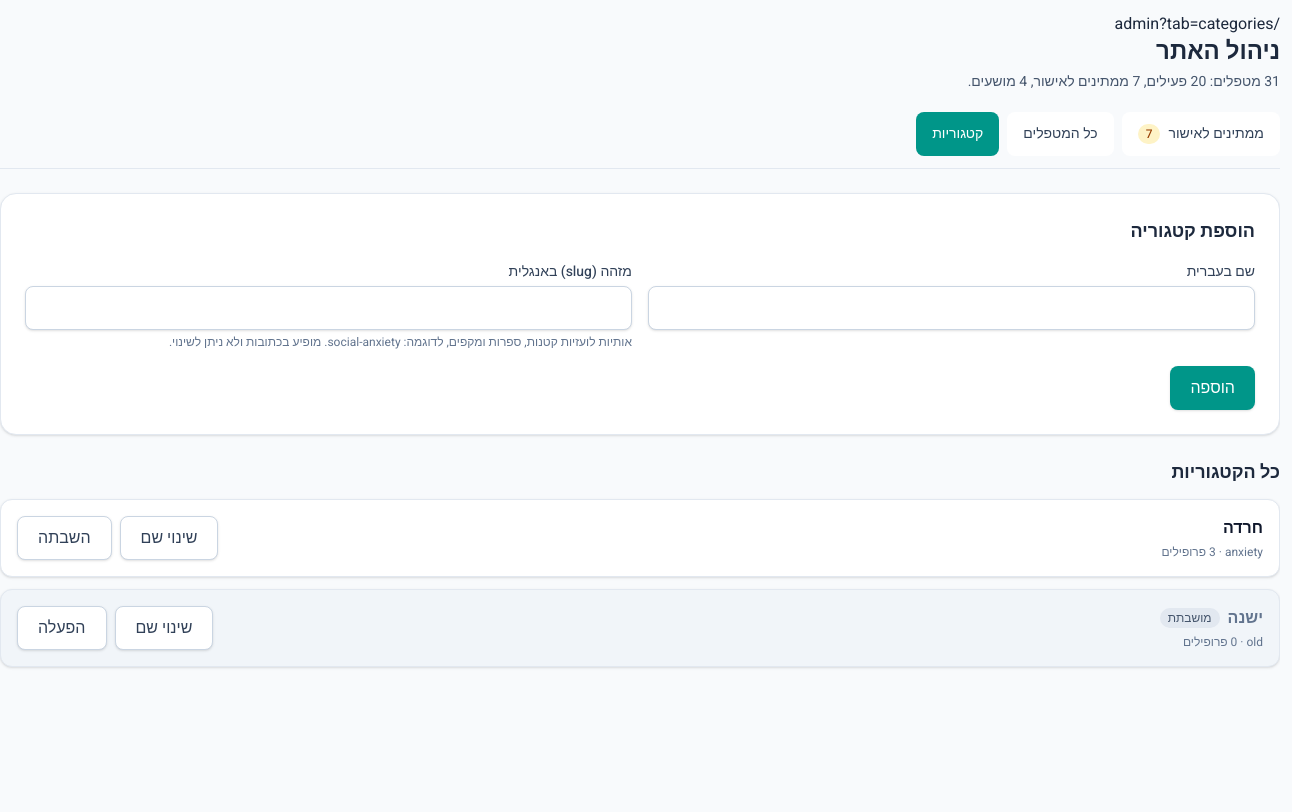
it: AdminPage: categories › renames a category
The width and height of the screenshot is (1292, 812).
Expected: the heading "ניהול האתר" is shown, [1156,34,1280,69]
Expected: the text "חרדה" is shown, [1223,516,1263,540]
Click the button "שינוי שם" in the row of "חרדה" at (169, 538), box [120,516,218,560]
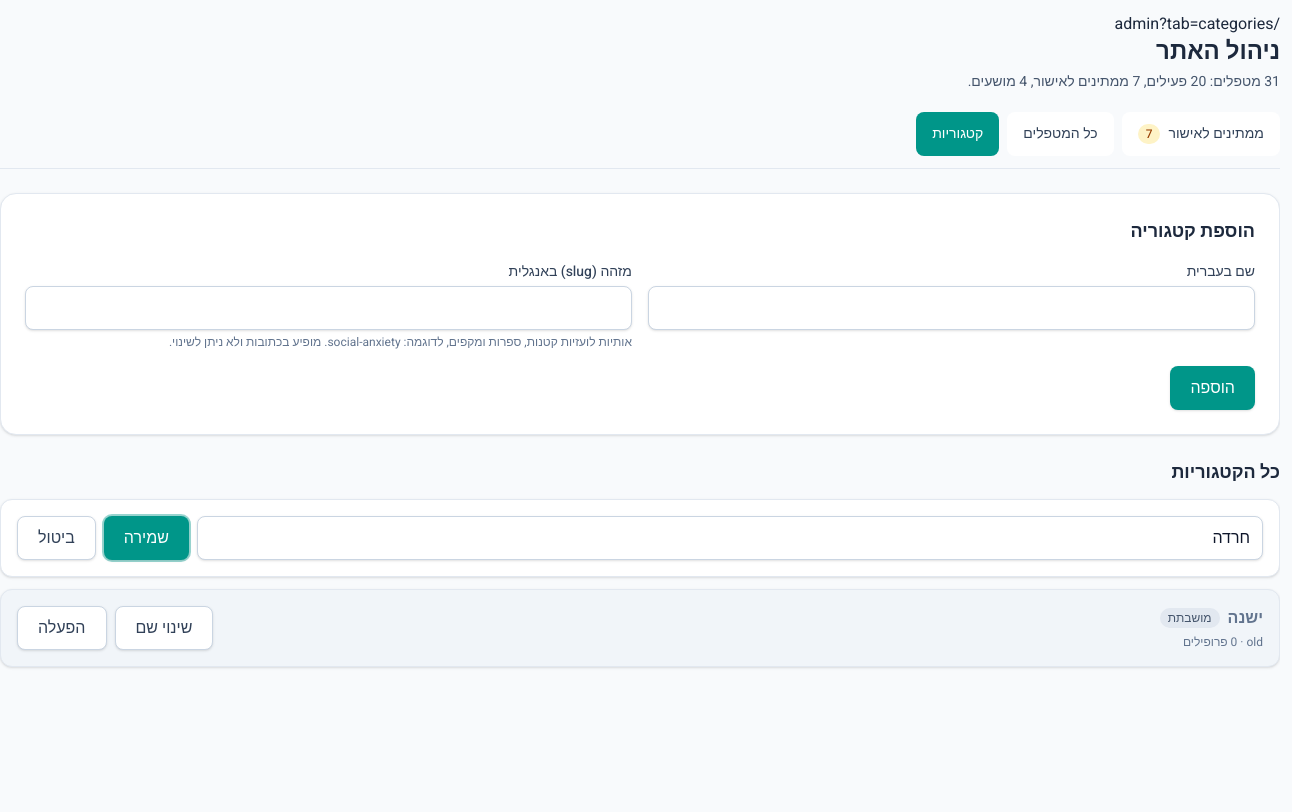
Replace the text in the field named "שם חדש עבור חרדה" with "חרדה ומתח" at (730, 538), box [197,516,1263,560]
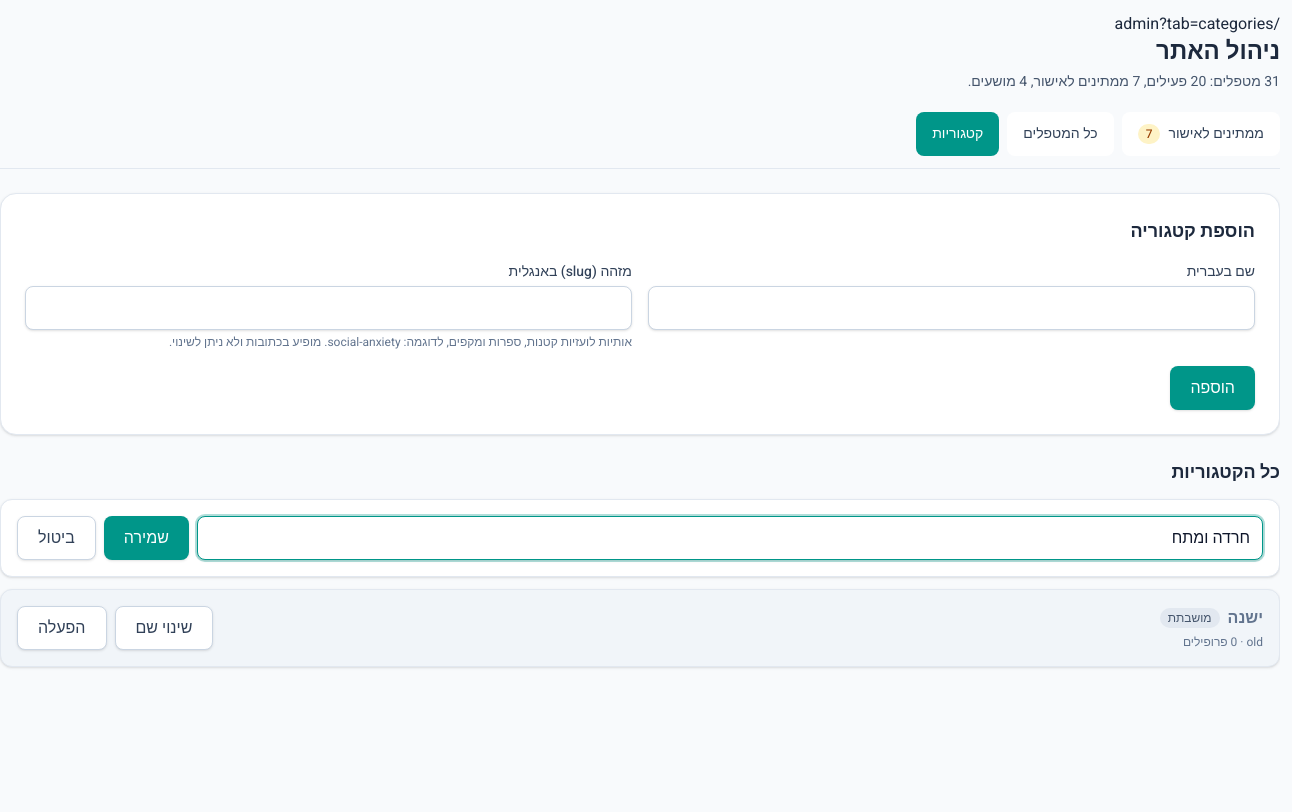
Click the button "שמירה" at (146, 538), box [104,516,189,560]
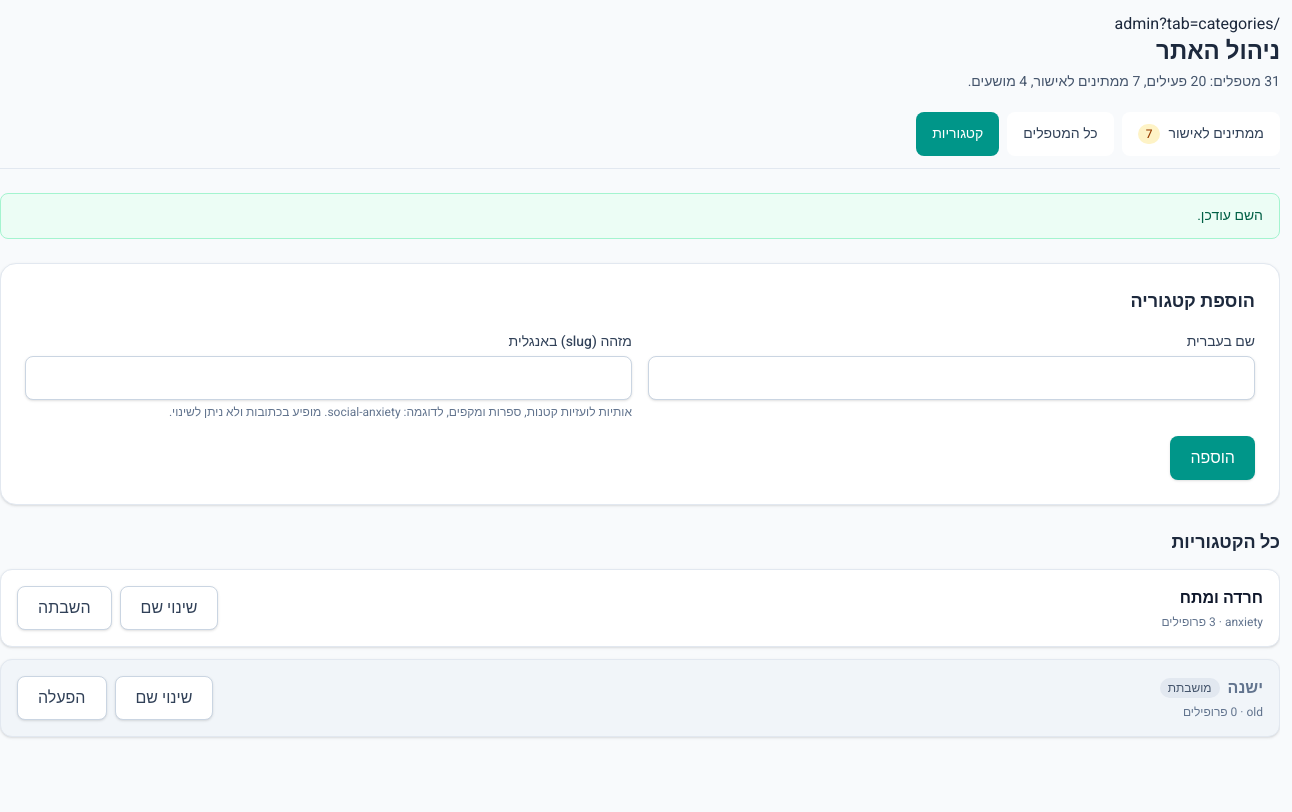
Now the text "חרדה ומתח" is shown, box [1180,586,1263,610]
Now the text "השם עודכן." is shown, box [0,193,1280,239]
